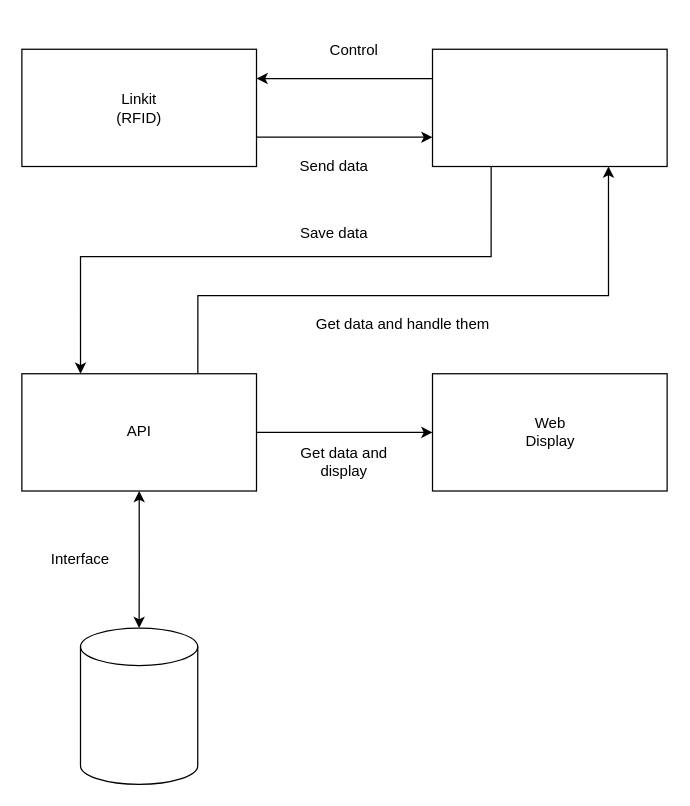
The diagram is 690 pixels wide and 806 high, and some of its shapes have lost their labels. Each missing label, with the centre of its shape:
GUI: the point at 549,107
MySQL DB: the point at 138,705
